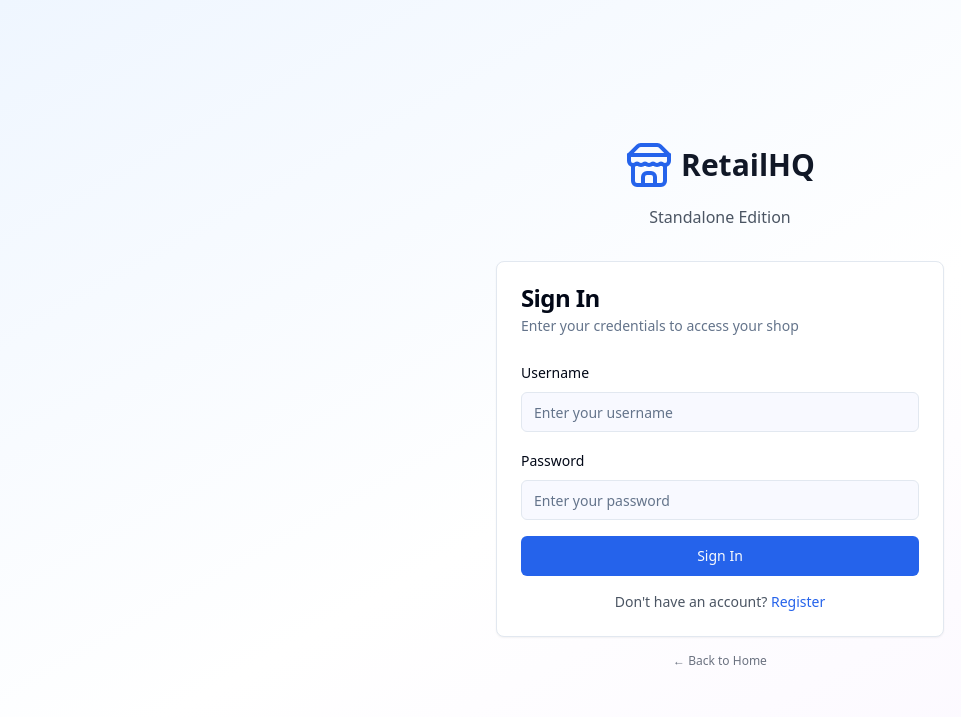
Test case: EmbeddedLoginPage › Form Submission - Error Handling › should display error message on login failure
The width and height of the screenshot is (961, 717).
Type "wronguser" into the field labelled "Username" at (720, 412), box [521, 392, 919, 432]
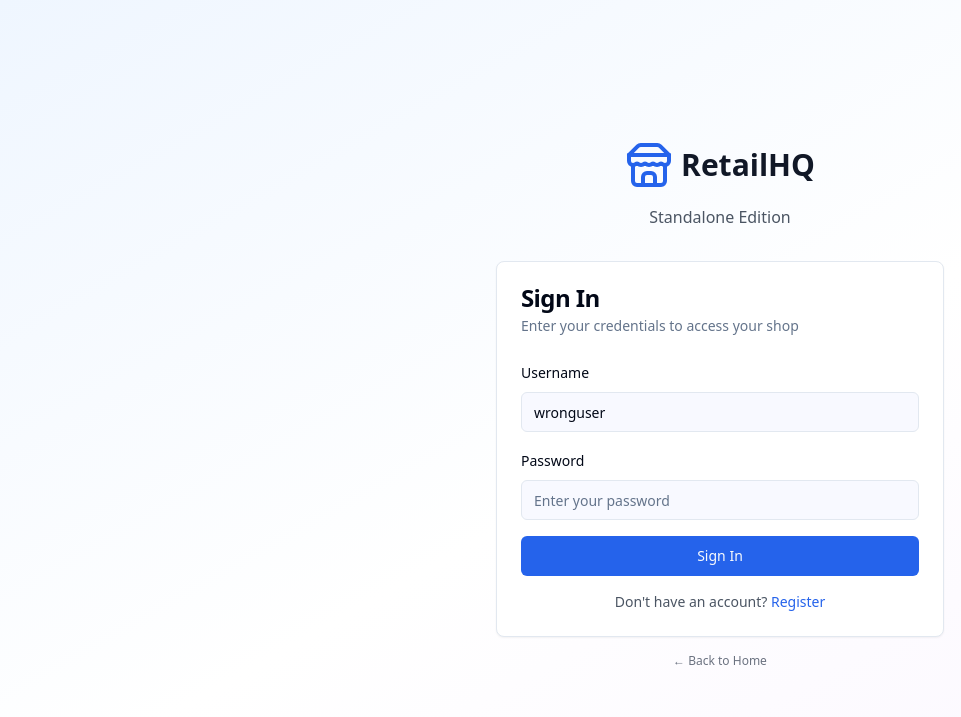
Type "wrongpass" into the password field labelled "Password" at (720, 500), box [521, 480, 919, 520]
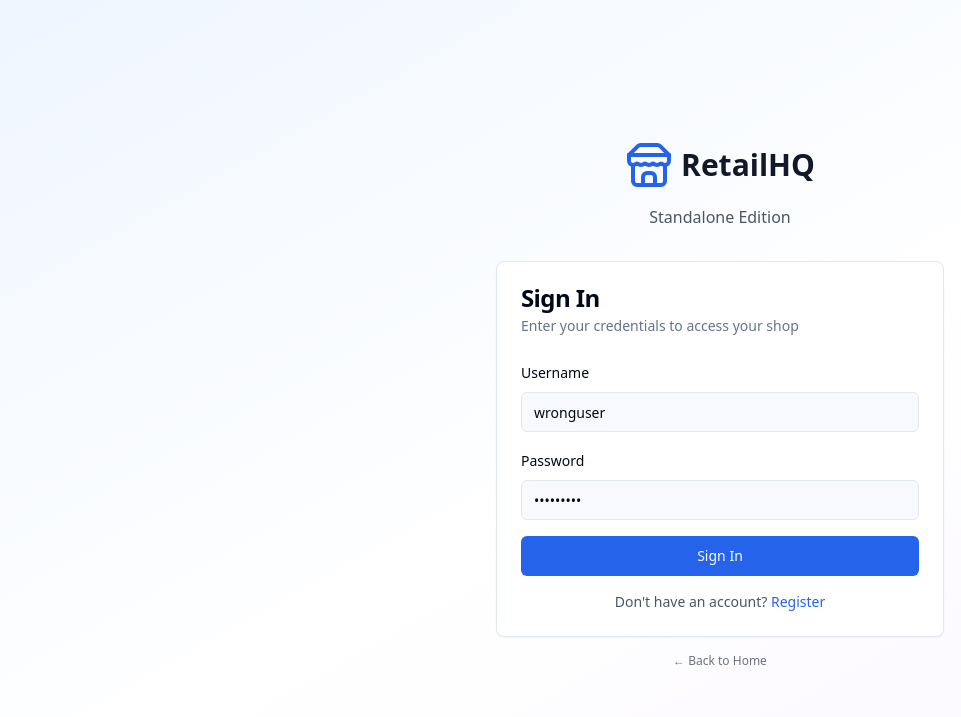
Click the button "Sign In" at (720, 556), box [521, 536, 919, 576]
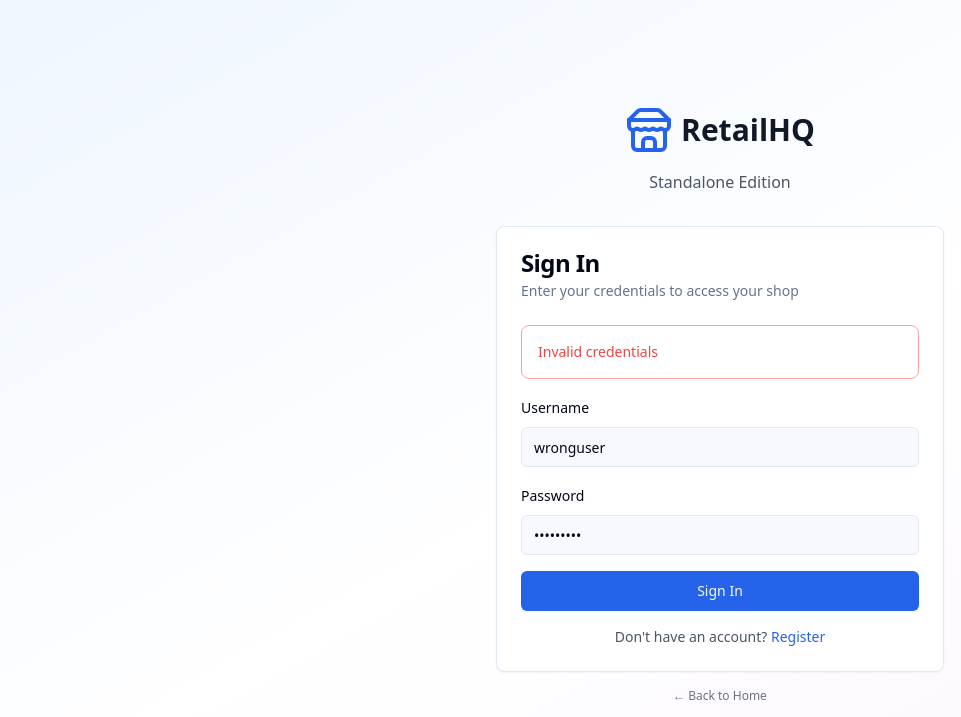
Expected: the message "Invalid credentials" is shown, [521, 325, 919, 379]
